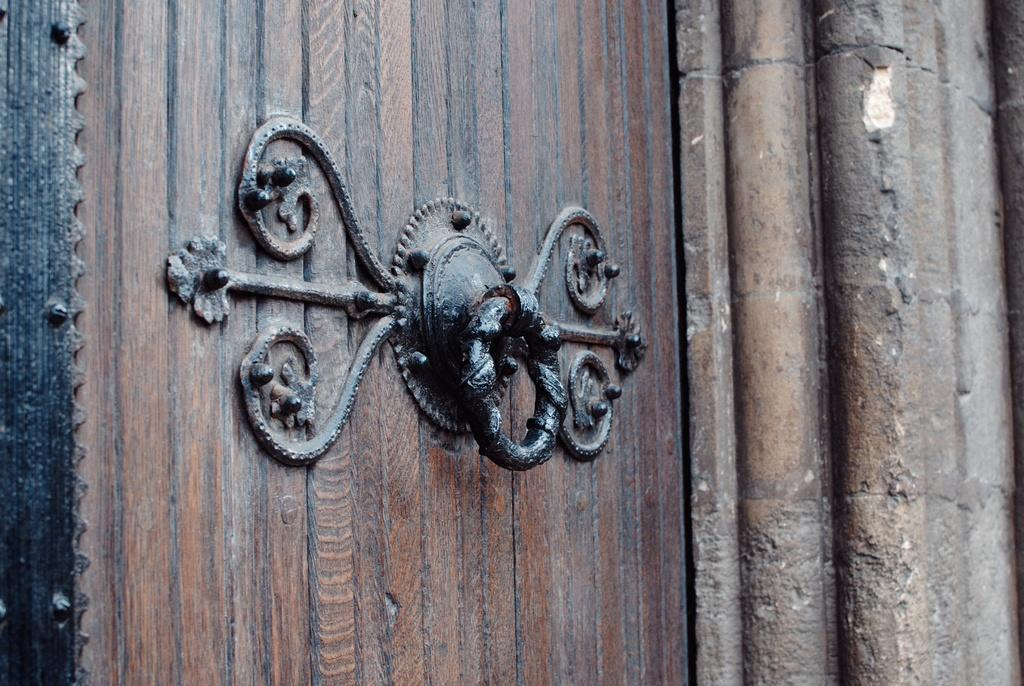handle: (456, 272, 571, 472)
